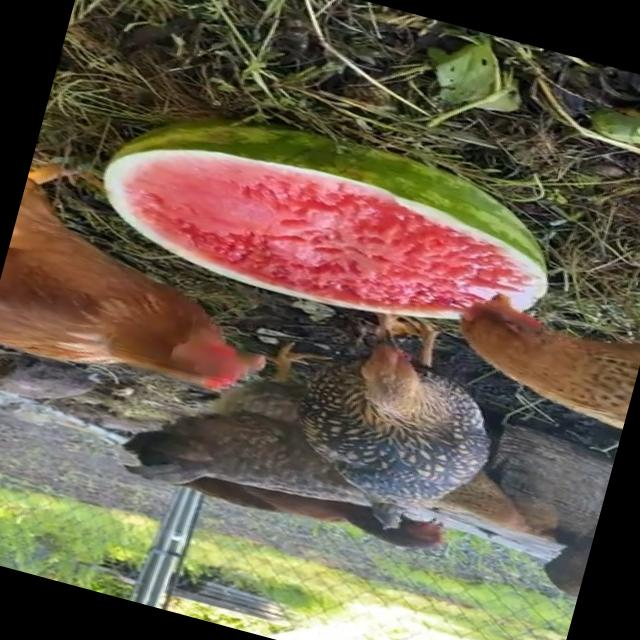feeding: (239, 286, 564, 558), (0, 202, 274, 413), (486, 310, 640, 426)
